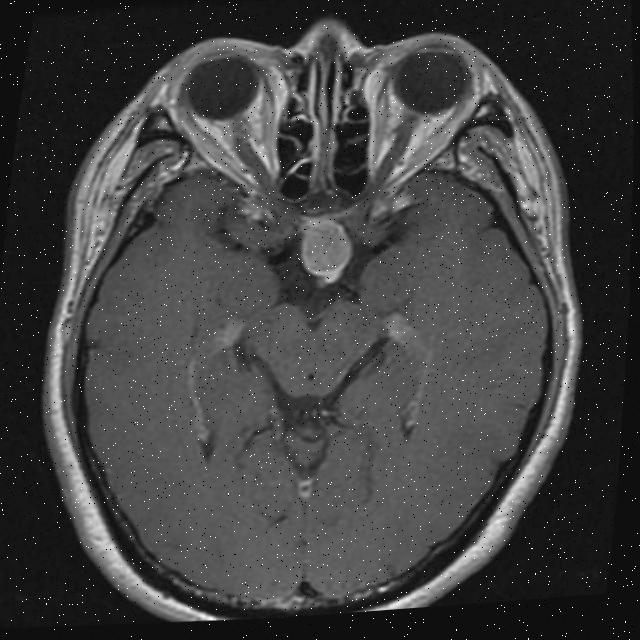Pituitary: (298, 210, 356, 286)
